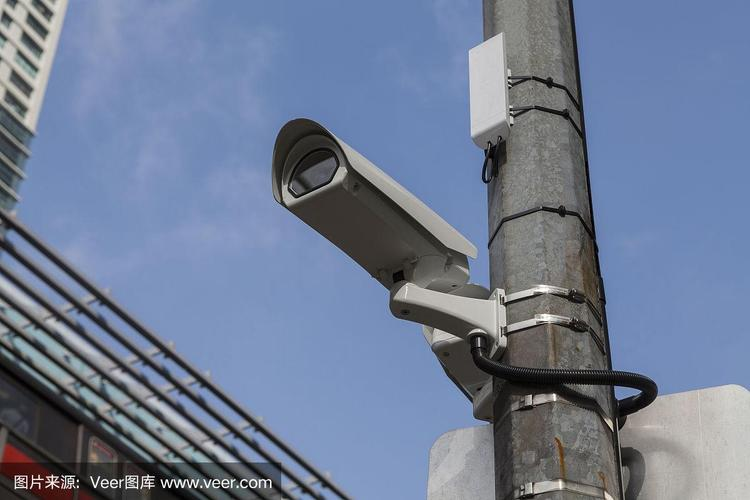camera: (271, 125, 480, 302)
